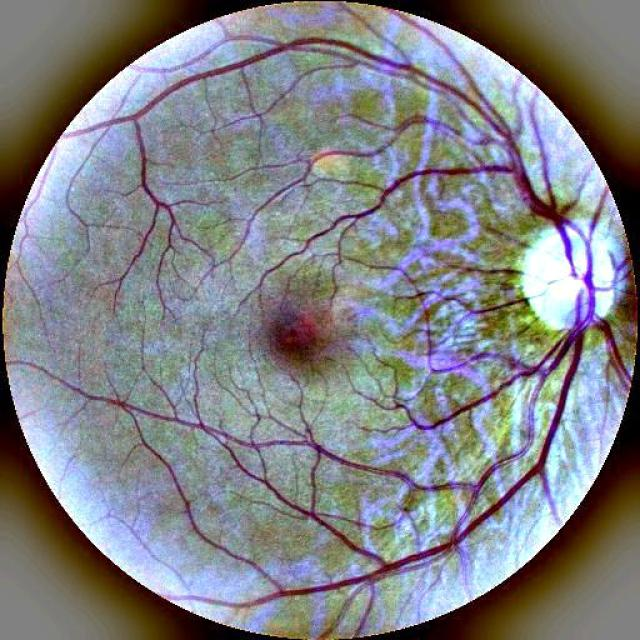Macula: (240, 303, 361, 389)
Nerves: (145, 53, 605, 569)
Optic Disk: (499, 219, 639, 347)
